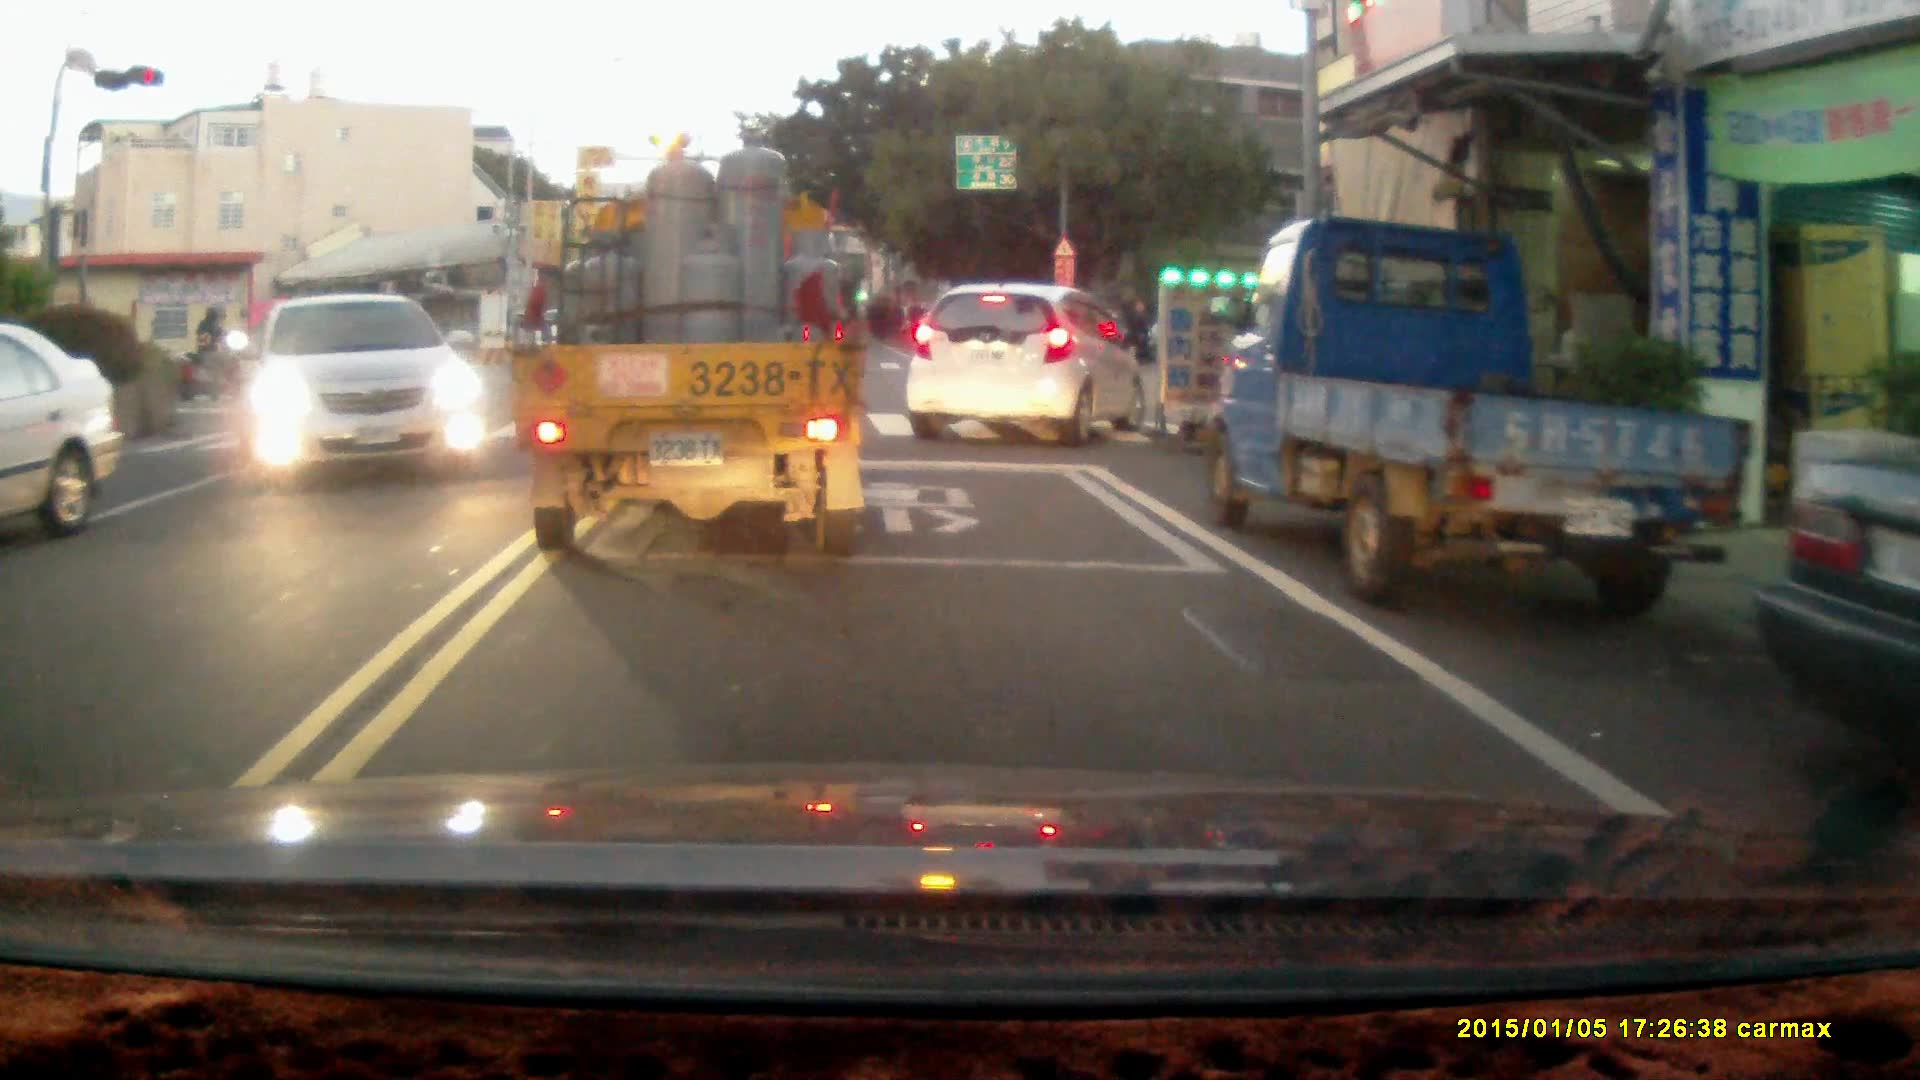rider: (173, 306, 257, 402)
vehicle: (1212, 209, 1750, 609), (521, 123, 875, 556), (239, 297, 488, 484), (904, 283, 1153, 443), (1, 328, 122, 552)
